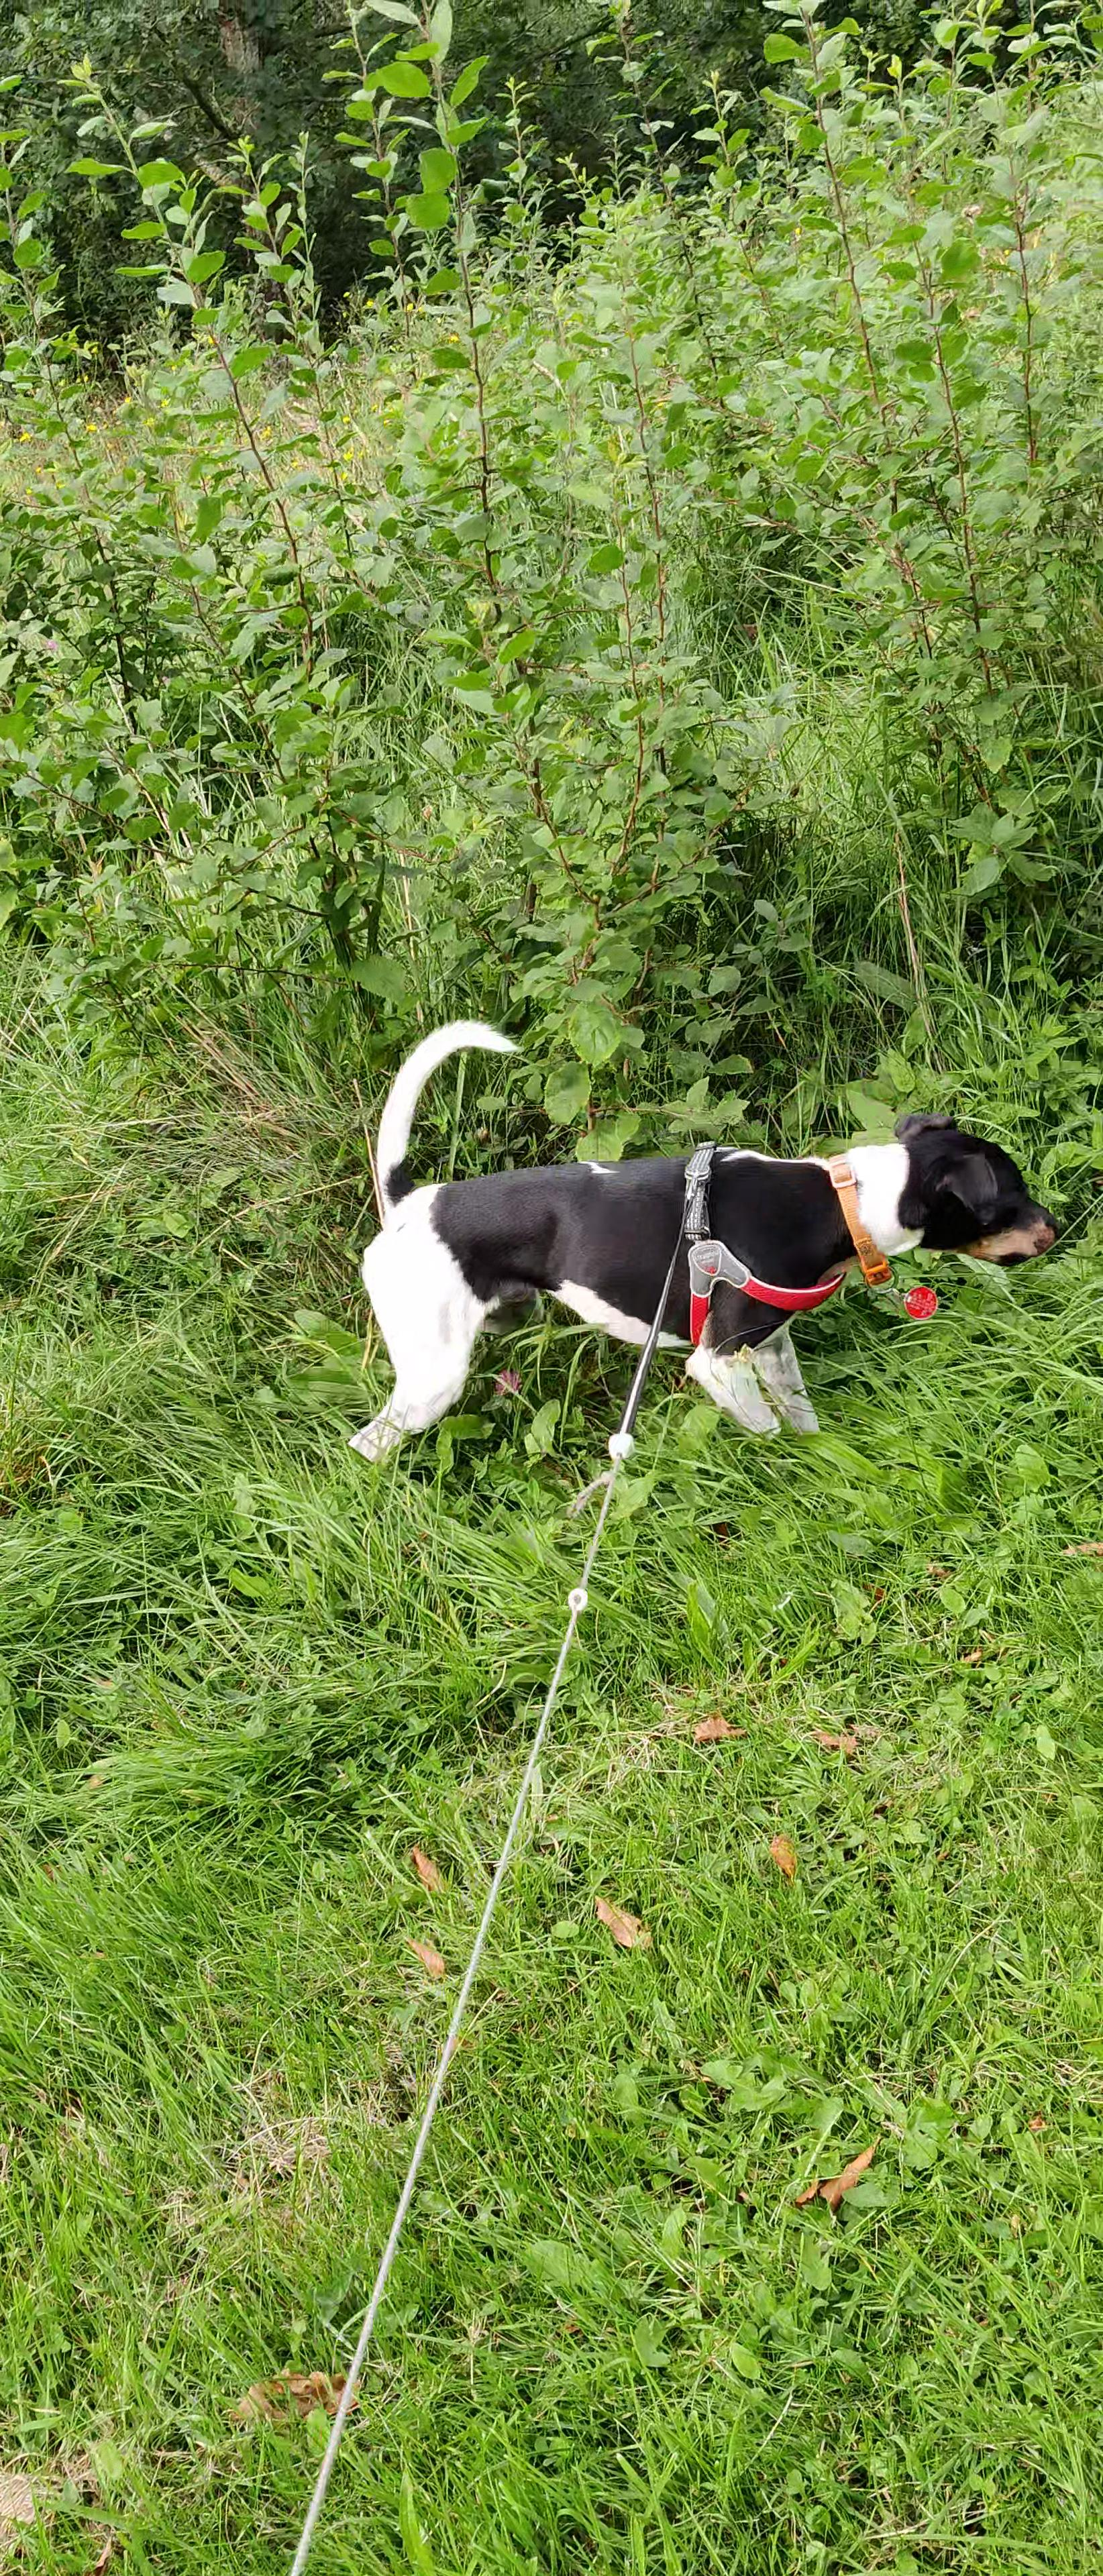Dog: (312, 987, 1088, 1485)
